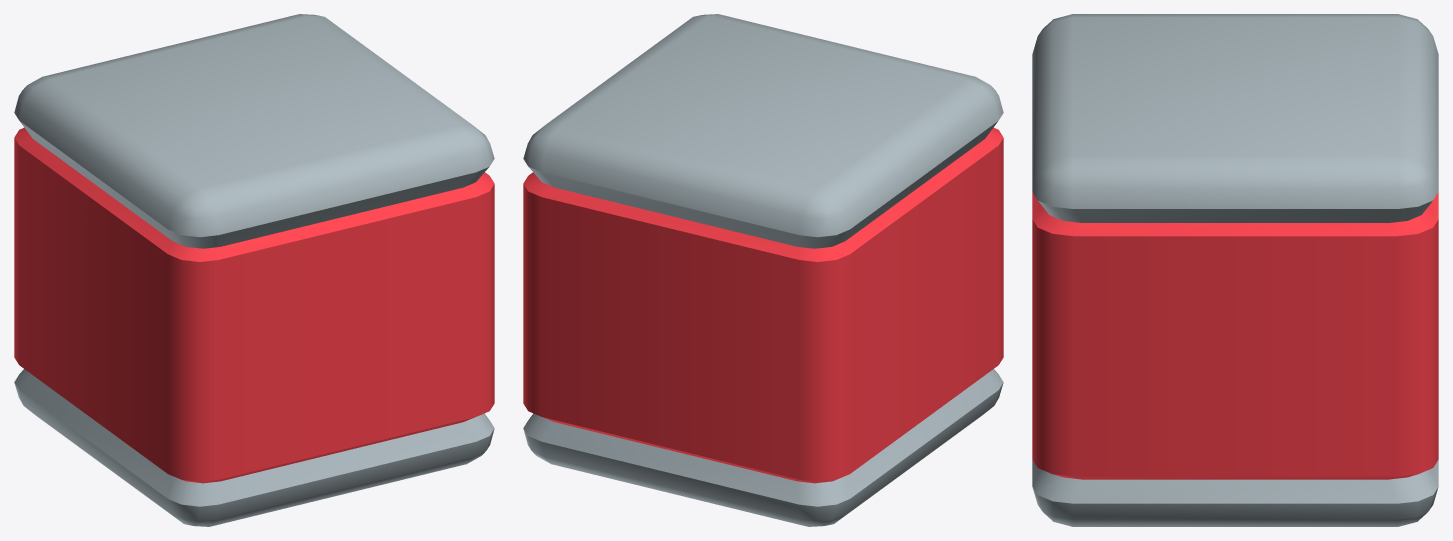
Rendered from powerupBlock_teamRed.glb.
3 views of the same model, side by side, from view 1: azimuth 30°, elevation 25°; view 2: azimuth 150°, elevation 25°; view 3: azimuth 270°, elevation 25° (orthographic). The views are drawn at different scales.
Visible parts, largest first — view 1: powerupBlock_teamRed; view 2: powerupBlock_teamRed; view 3: powerupBlock_teamRed.
Part boxes in pixels (x1,y1,x2,y2): powerupBlock_teamRed: (14, 14, 494, 526); powerupBlock_teamRed: (523, 14, 1003, 526); powerupBlock_teamRed: (1032, 14, 1438, 526).
Size of the model in its own units: 0.35 by 0.35 by 0.35.
